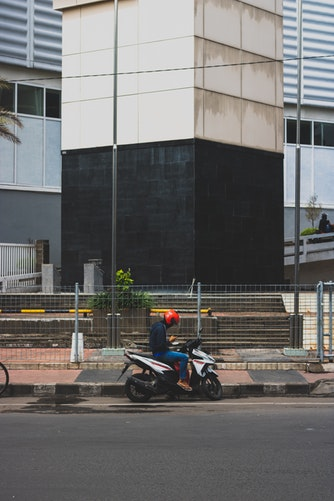helmet: (162, 307, 179, 326)
